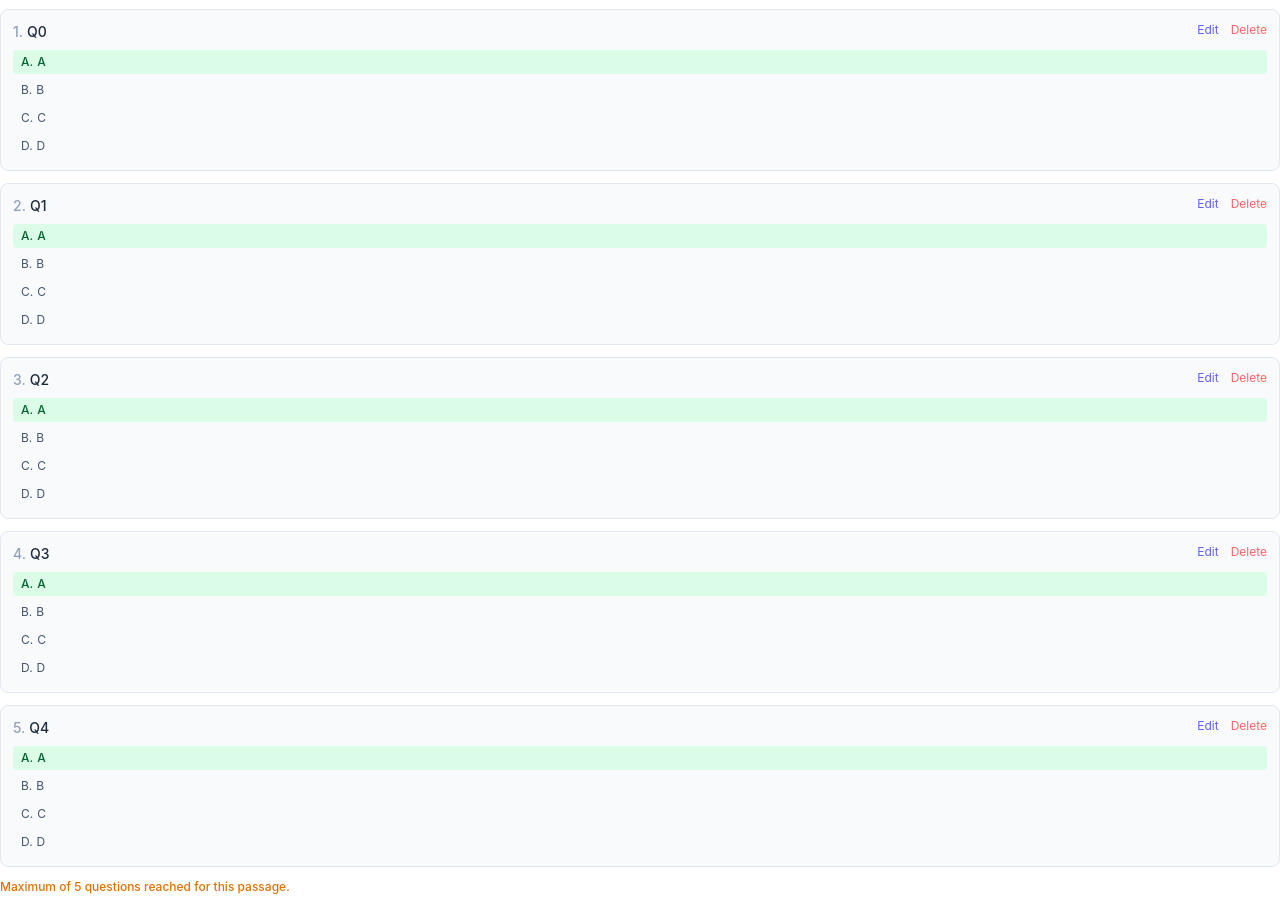
it: QuestionPanel › shows edit form even when at 5-question limit
Click the button "Edit" in the row of "Q0" at point(1208, 30), box [1197, 22, 1219, 38]
(page scrolled)
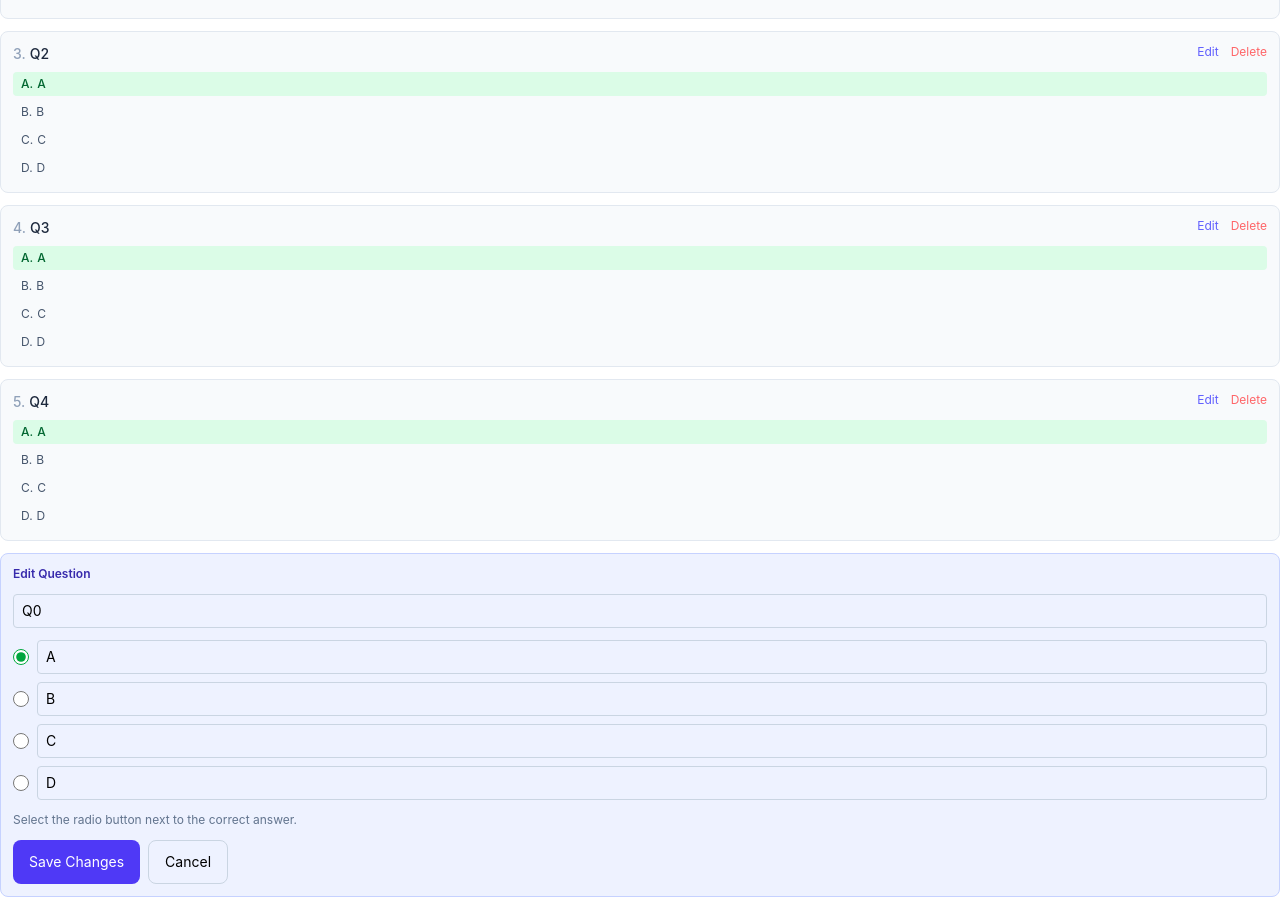
Result: the 1st field with placeholder "Question text" is shown at [13, 594, 1267, 628]
Result: the text "Maximum of 5 questions" is gone
